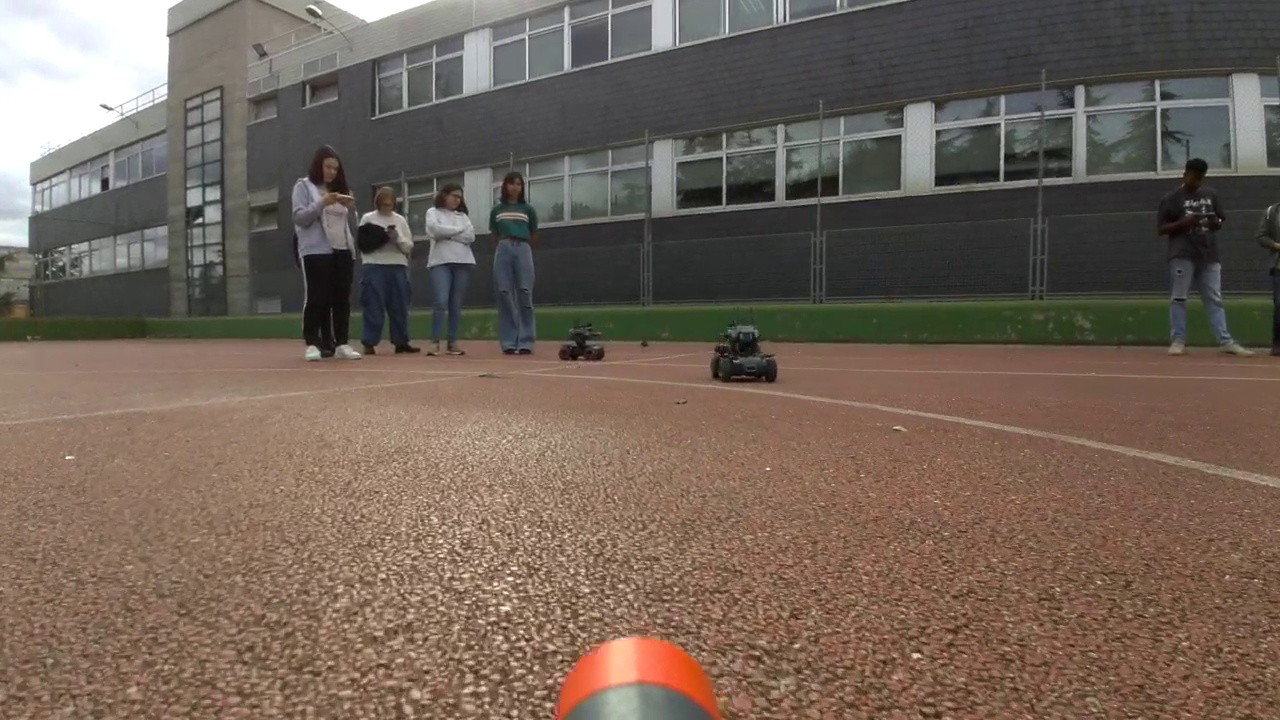robot: (713, 321, 779, 383), (560, 321, 606, 361)
